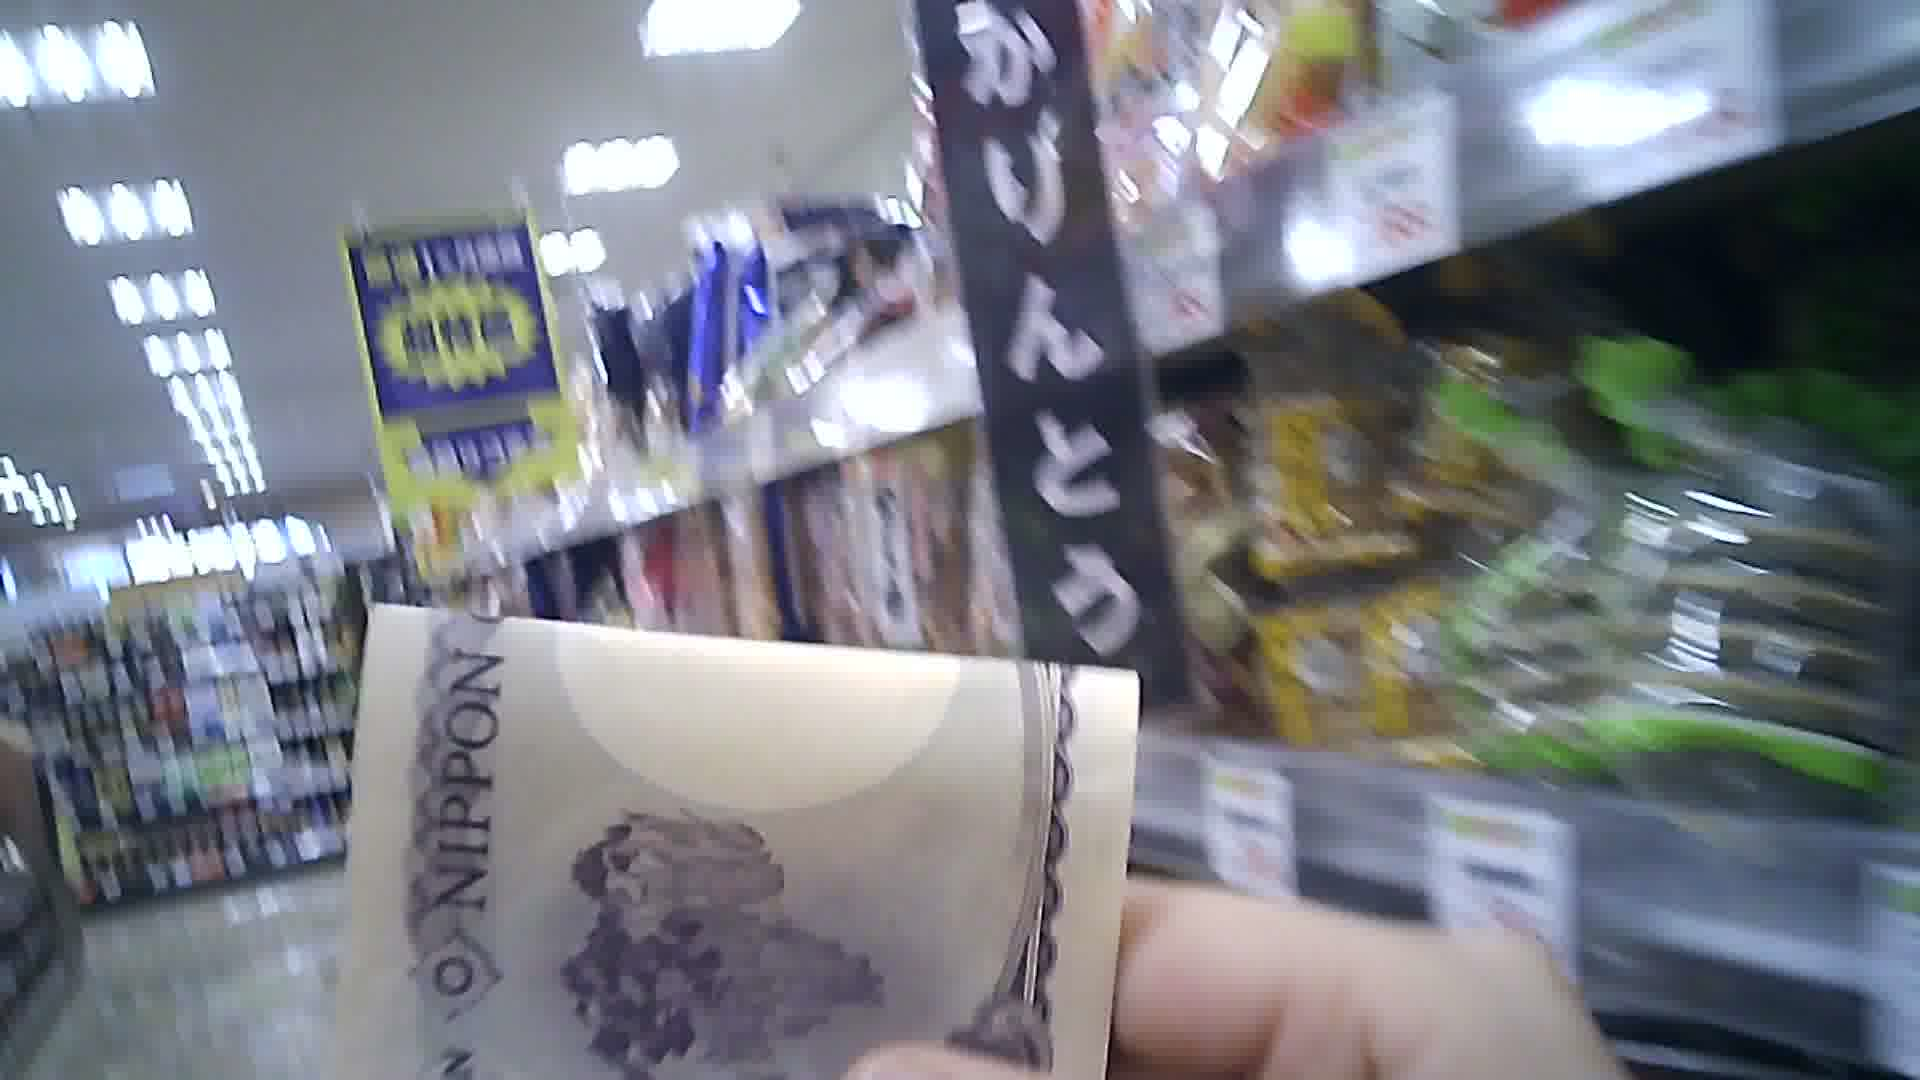5,000 Yen: (314, 571, 1168, 1079)
